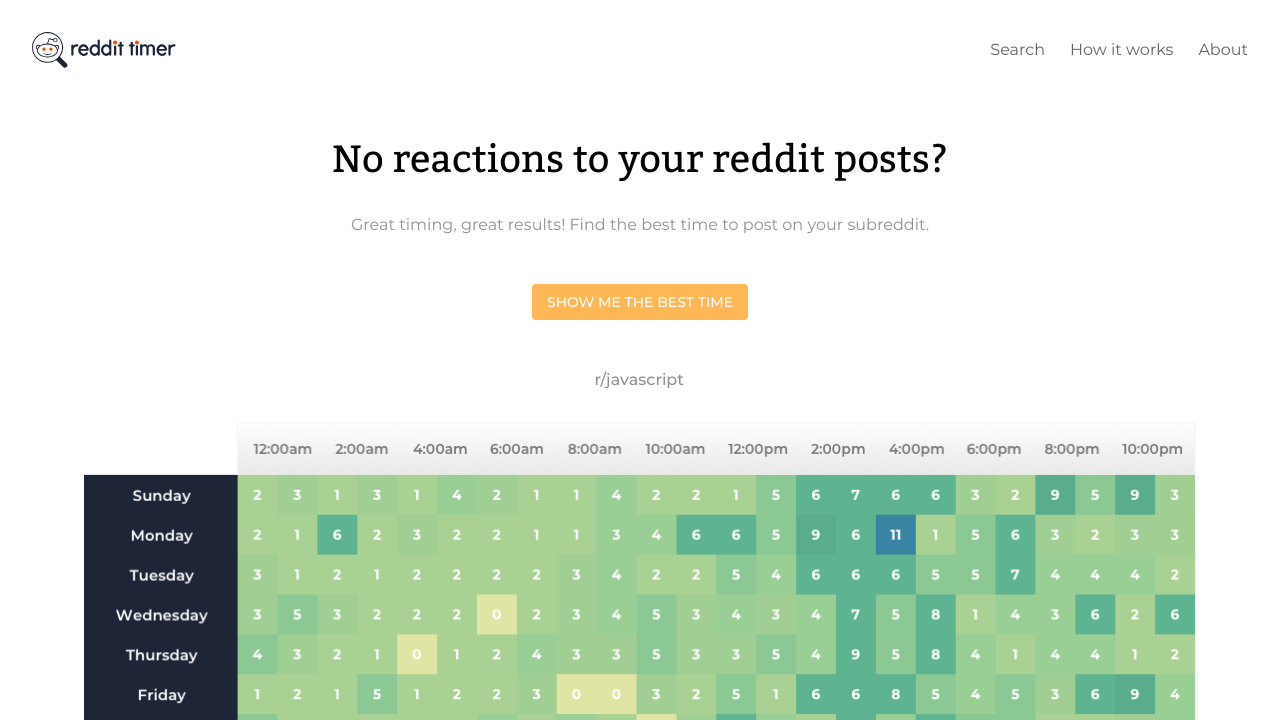
Test: Header › Nav menu › search item links to search page
Click the link "Search".
click(1018, 50)  # box [990,40,1045,60]
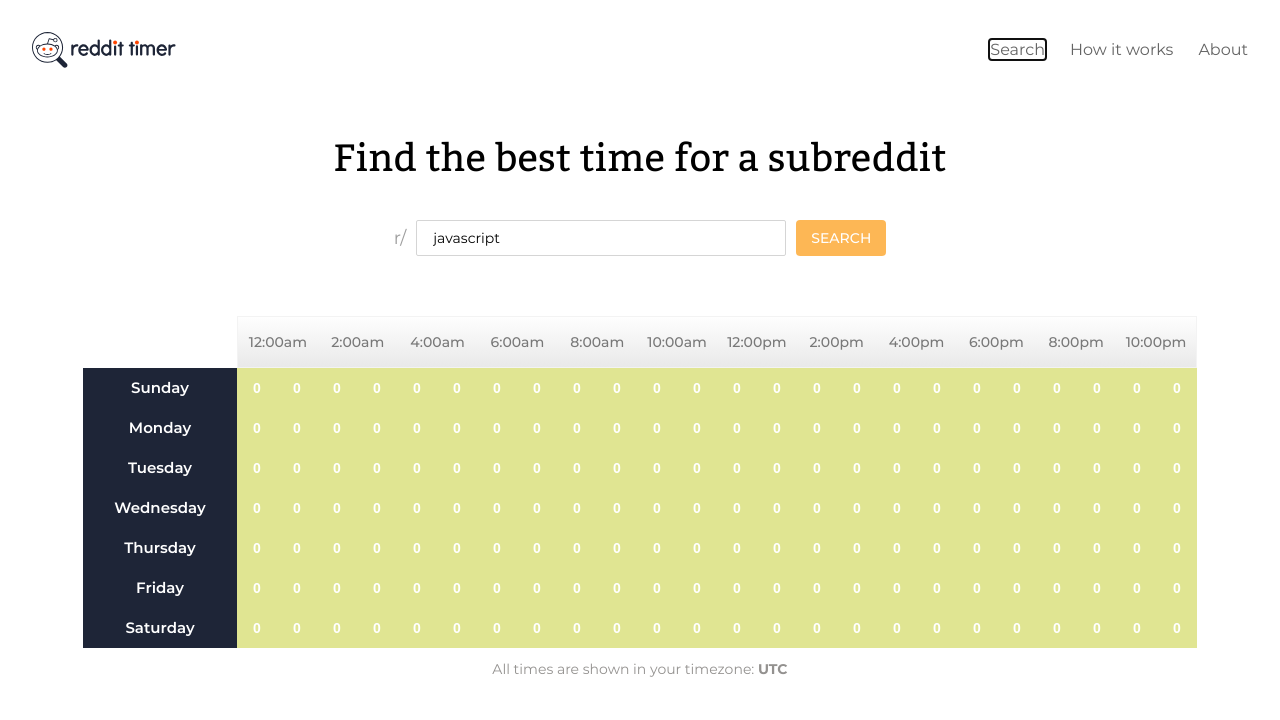
Result: the heading "Find the best time for a subreddit" is shown at [334,126,946,190]
